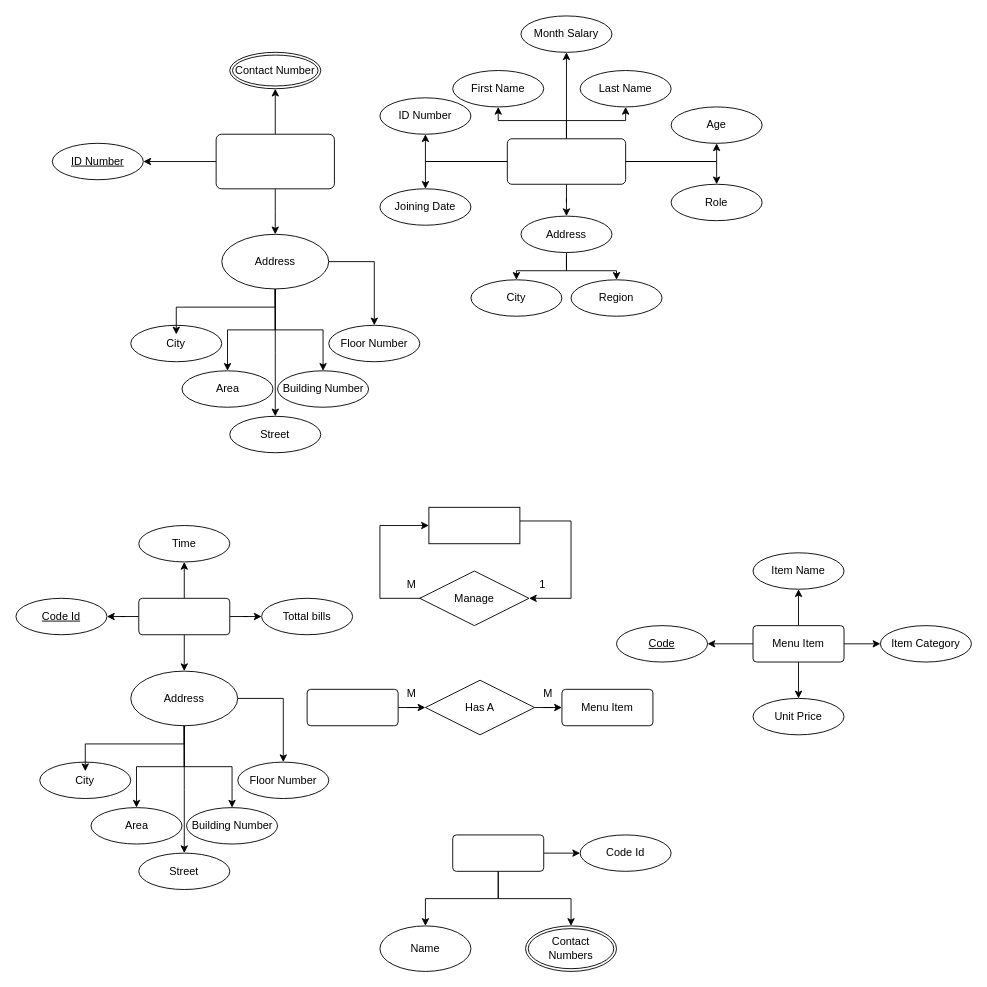
This 987x987 diagram has some shape labels left out. The shapes that lost their labels are listed below. From the top down, each one's centre as x and y in pixels, then its label:
At [274,161]: "Branch".
At [566,161]: "Staff".
At [474,525]: "Staff Member".
At [184,616]: "Orders".
At [352,707]: "Order".
At [498,852]: "Delivary".
